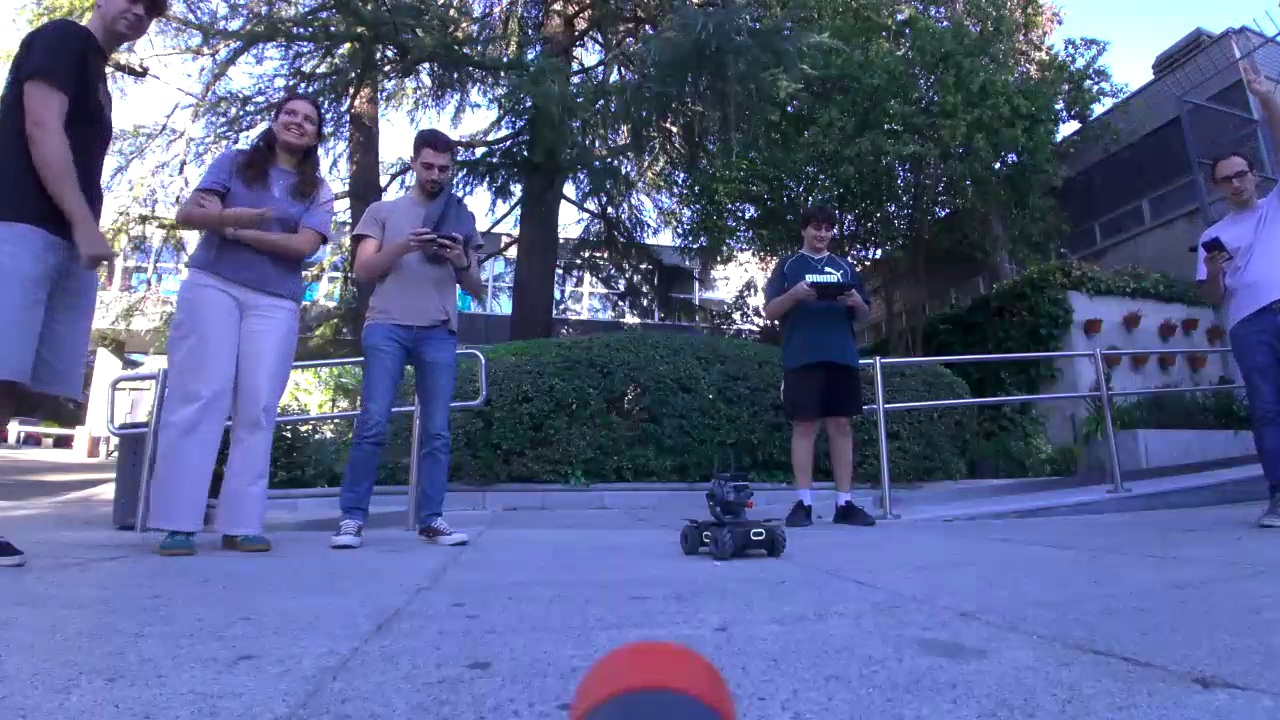robot: (683, 480, 801, 567)
